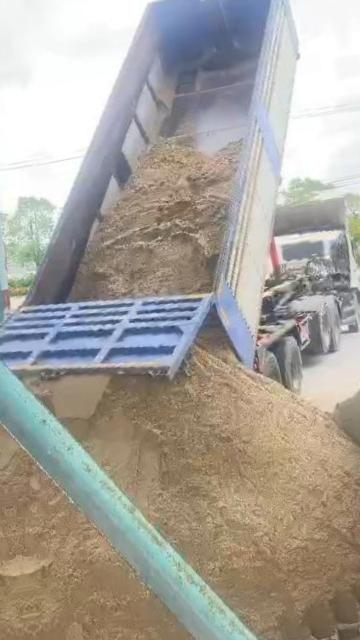sand: (66, 341, 360, 640), (4, 450, 206, 640), (71, 140, 240, 300), (332, 365, 360, 620), (38, 375, 108, 424), (0, 418, 18, 470)
